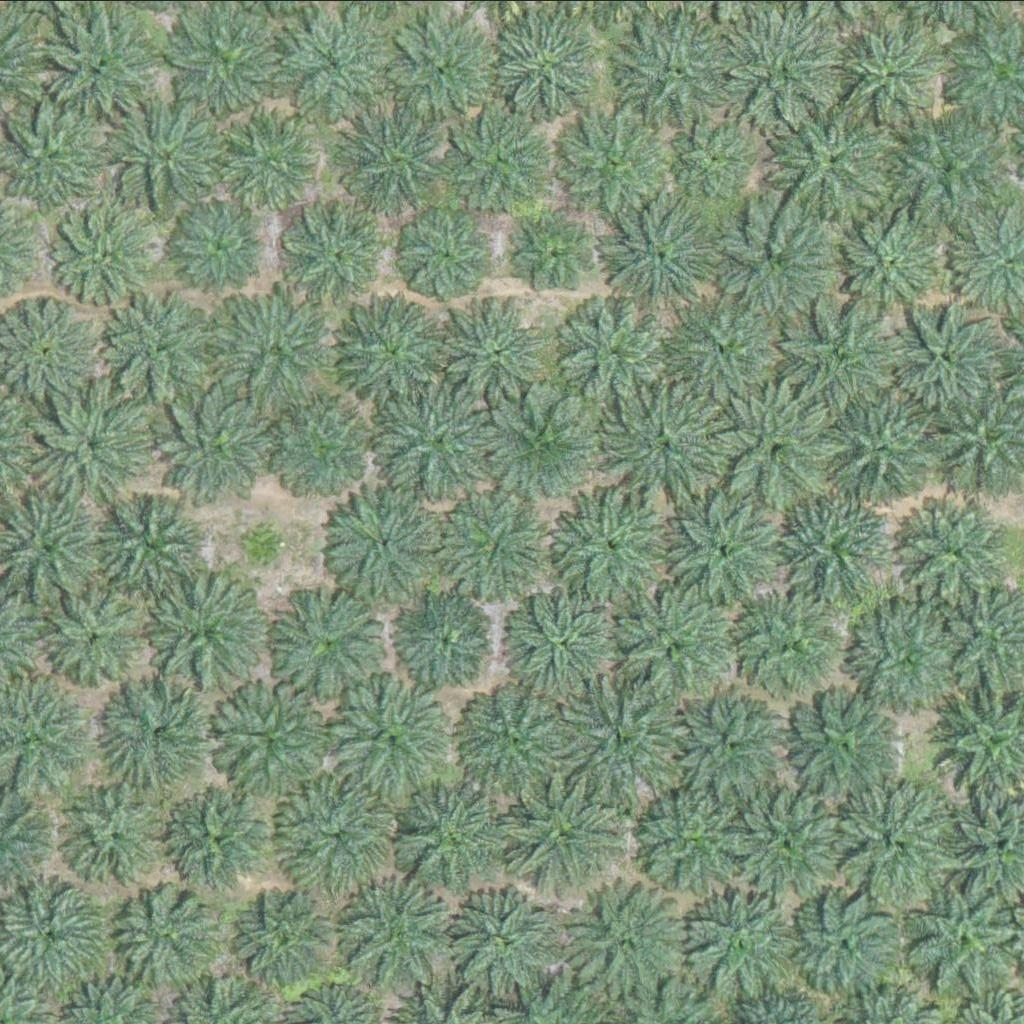Kelapa_Sawit: (380, 376, 506, 501), (454, 677, 580, 802), (273, 770, 399, 895), (395, 771, 521, 896), (507, 771, 633, 896), (686, 884, 812, 1009), (563, 881, 689, 1006), (726, 774, 852, 899), (834, 775, 960, 900), (616, 593, 742, 718), (601, 383, 727, 508), (716, 387, 842, 512), (772, 91, 898, 216), (619, 5, 745, 130), (326, 679, 451, 804), (209, 677, 334, 802), (632, 774, 757, 899), (727, 588, 852, 713), (845, 599, 970, 724), (494, 12, 608, 125), (337, 101, 451, 214), (667, 294, 781, 407), (560, 297, 674, 410), (109, 99, 222, 212), (488, 386, 601, 499), (442, 492, 555, 605), (324, 489, 437, 602), (102, 487, 215, 600), (117, 881, 230, 994), (790, 691, 903, 804), (676, 690, 789, 803), (561, 677, 674, 790), (892, 298, 1005, 411), (788, 301, 901, 414), (724, 11, 837, 124), (99, 295, 213, 407), (217, 294, 331, 406), (38, 386, 152, 498), (163, 388, 277, 500), (608, 203, 722, 315), (722, 201, 836, 313), (901, 113, 1015, 225), (278, 8, 391, 120), (176, 3, 289, 115), (42, 4, 155, 116), (332, 297, 445, 409), (265, 586, 378, 698), (511, 576, 624, 688), (104, 680, 217, 792), (59, 778, 172, 890), (447, 890, 560, 1002), (341, 874, 454, 986), (794, 886, 907, 998), (898, 495, 1011, 607), (773, 488, 886, 600), (670, 496, 783, 608), (560, 491, 673, 603), (830, 391, 943, 503), (60, 207, 161, 307), (446, 300, 547, 400), (270, 395, 371, 495), (42, 588, 143, 688), (160, 581, 261, 681), (397, 588, 498, 688), (169, 790, 270, 890), (235, 886, 336, 986), (570, 113, 671, 213), (389, 16, 489, 116), (227, 110, 327, 210), (449, 108, 549, 208), (840, 214, 940, 314), (836, 21, 936, 121), (405, 209, 493, 297), (300, 207, 388, 295), (180, 200, 268, 287), (520, 219, 596, 294), (679, 117, 755, 192), (241, 519, 291, 569)
